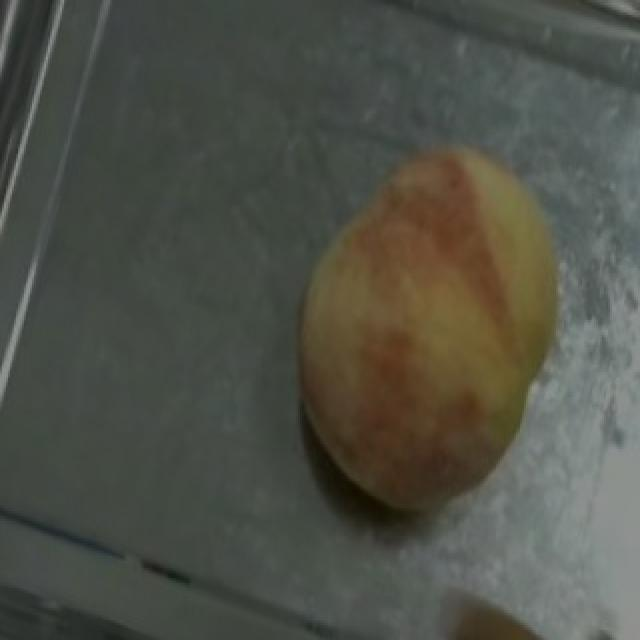Fruit: (270, 106, 606, 446)
